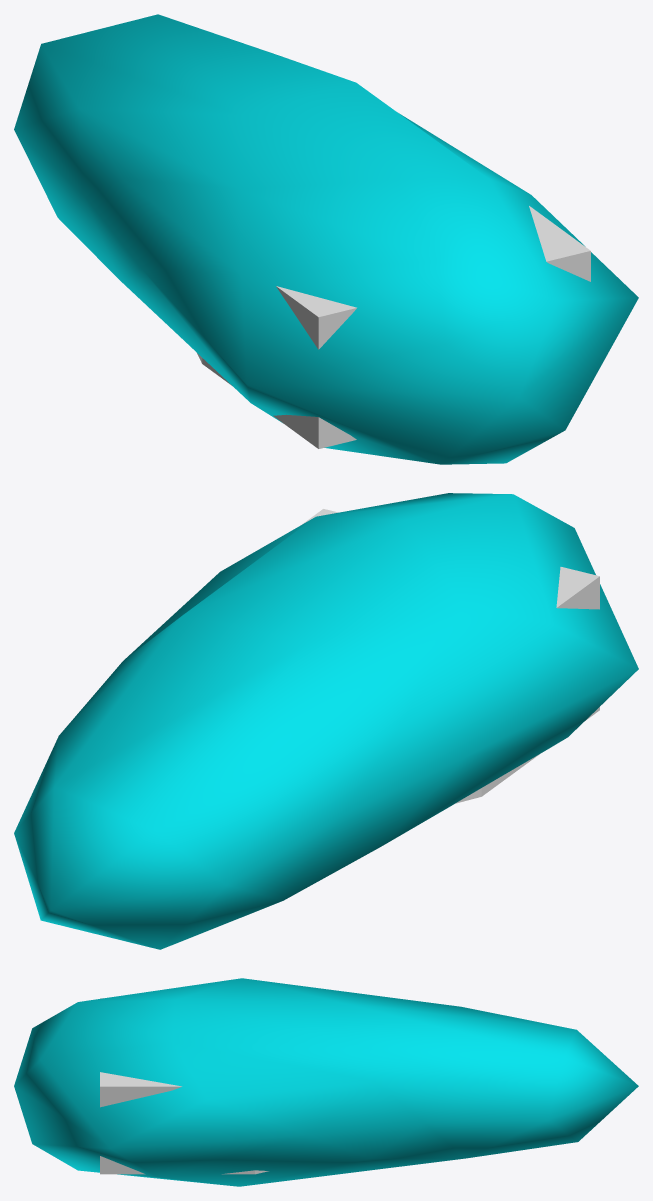
The model's file is Light Fighter.fbx.
The picture shows the model from 3 angles, top to bottom: view 1: azimuth 30°, elevation 25°; view 2: azimuth 150°, elevation 25°; view 3: azimuth 270°, elevation 25°; orthographic projection. The views are drawn at different scales.
Visible parts, largest first — view 1: Shield.002, Cube.005; view 2: Shield.002, Cube.005; view 3: Shield.002, Cube.005.
Boxes of the visible parts, <box> form: Shield.002: <box>14,14,638,464</box>; Cube.005: <box>197,206,590,448</box>; Shield.002: <box>14,493,638,949</box>; Cube.005: <box>301,509,599,803</box>; Shield.002: <box>14,978,638,1186</box>; Cube.005: <box>100,998,268,1174</box>.
Size of the model in its own units: 6.07 by 12.89 by 3.86.
